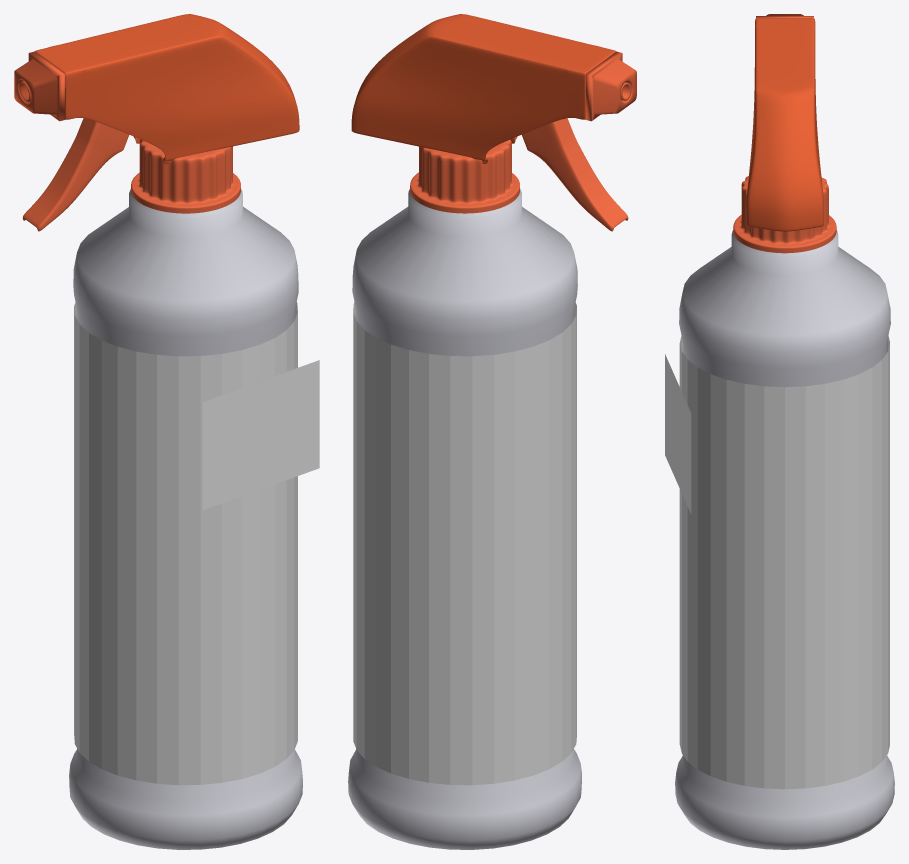
The model's file is spray_bottle.glb.
3 views of the same model, side by side, from view 1: azimuth 30°, elevation 25°; view 2: azimuth 150°, elevation 25°; view 3: azimuth 270°, elevation 25° (orthographic). The views are drawn at different scales.
Visible parts, largest first — view 1: label, bottle, spray_nogal_back, logo, cap, spray_handle, spray_nogel; view 2: label, bottle, spray_nogal_back, cap, spray_handle, spray_nogel; view 3: label, bottle, spray_nogal_back, cap, logo.
Part boxes in pixels (x1,y1,x2,y2): label: (74, 302, 297, 785); bottle: (69, 189, 302, 849); spray_nogal_back: (34, 14, 299, 163); logo: (202, 360, 319, 510); cap: (131, 139, 240, 213); spray_handle: (22, 118, 128, 231); spray_nogel: (14, 51, 65, 121); label: (353, 302, 576, 785); bottle: (348, 188, 581, 849); spray_nogal_back: (351, 14, 616, 163); cap: (410, 139, 519, 213); spray_handle: (522, 118, 628, 231); spray_nogel: (585, 51, 636, 121); label: (679, 336, 889, 789); bottle: (675, 230, 894, 849); spray_nogal_back: (746, 18, 823, 231); cap: (733, 176, 836, 253); logo: (665, 354, 691, 514).
Bounding box in the file's own units: 1.75 × 4.9 × 1.39.
